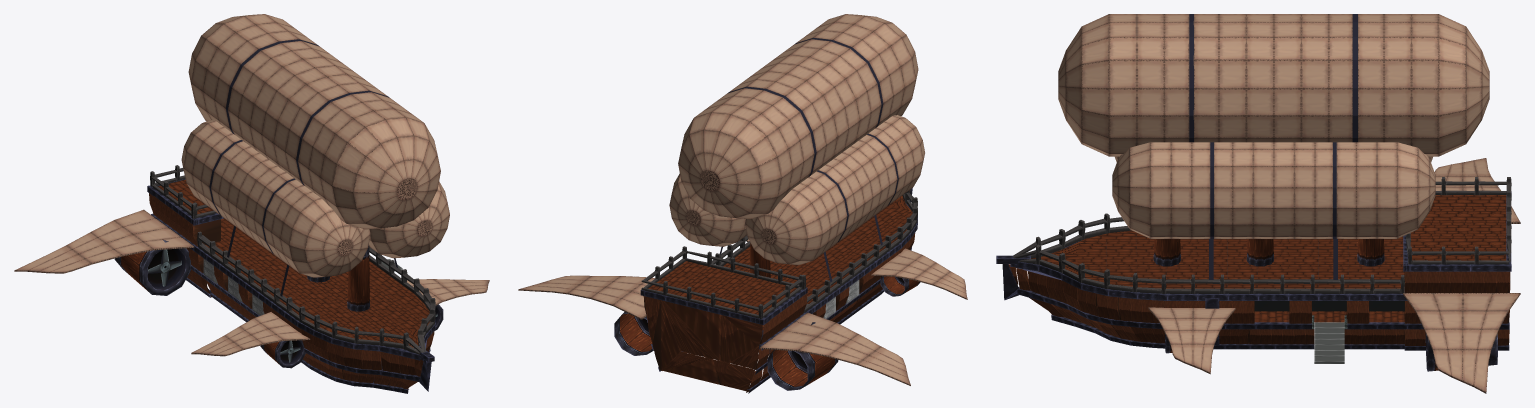
File: FlyingShip_GiantCinematic.fbx
3 views of the same model, side by side, from view 1: azimuth 30°, elevation 25°; view 2: azimuth 150°, elevation 25°; view 3: azimuth 270°, elevation 25° (orthographic). The views are drawn at different scales.
Visible parts, largest first — view 1: FlyingShip_GiantCinematic; view 2: FlyingShip_GiantCinematic; view 3: FlyingShip_GiantCinematic.
Boxes of the visible parts, left/top/right/bottom form: FlyingShip_GiantCinematic: left=14, top=14, right=489, bottom=393; FlyingShip_GiantCinematic: left=518, top=14, right=967, bottom=393; FlyingShip_GiantCinematic: left=996, top=14, right=1520, bottom=393.
Bounding box in the file's own units: 11001 × 6615 × 10381.
